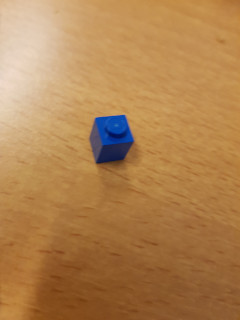1x1 blue: (86, 112, 137, 166)
